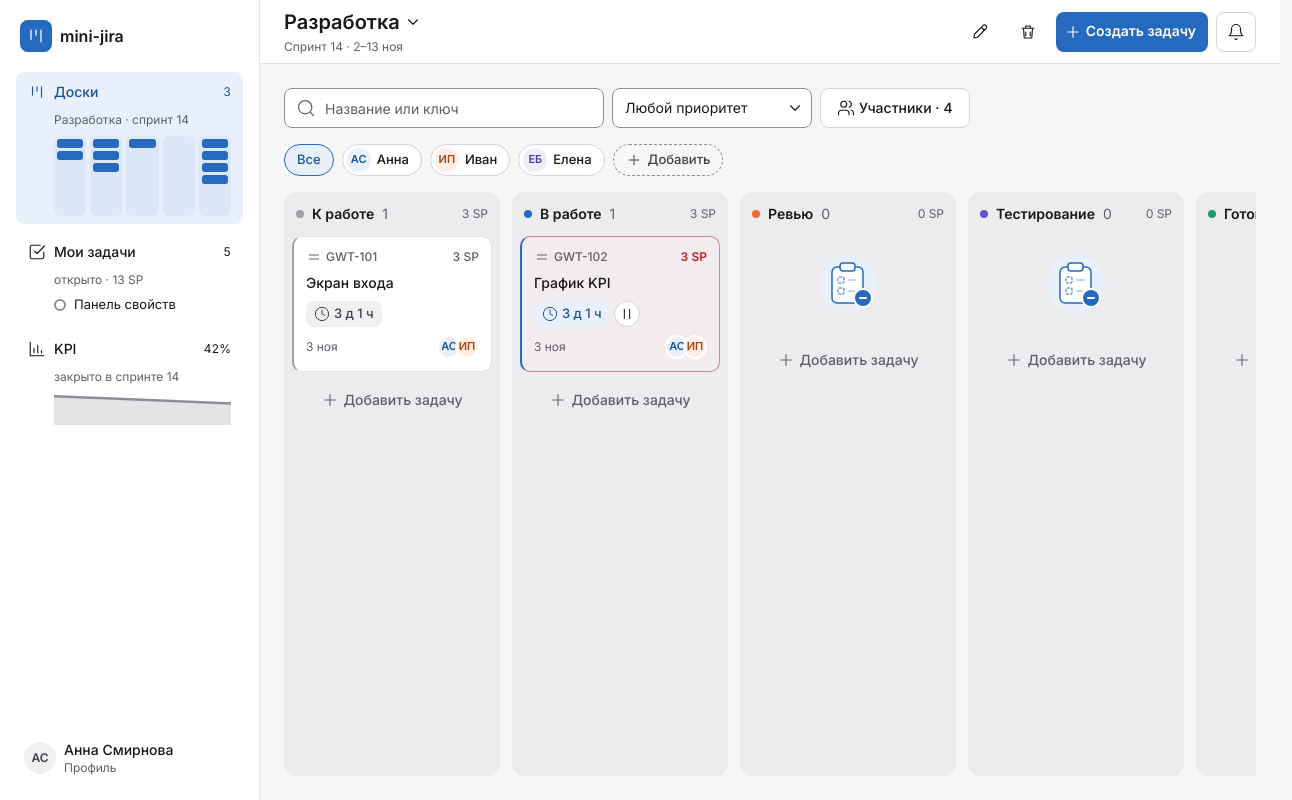
Test: cross-module scope доски › фильтры переживают переход к участникам и обратно
Step 1. Type "вход" into the search field named "Поиск по названию или ключу" → {"x": 444, "y": 108}, box [284,88,604,128]
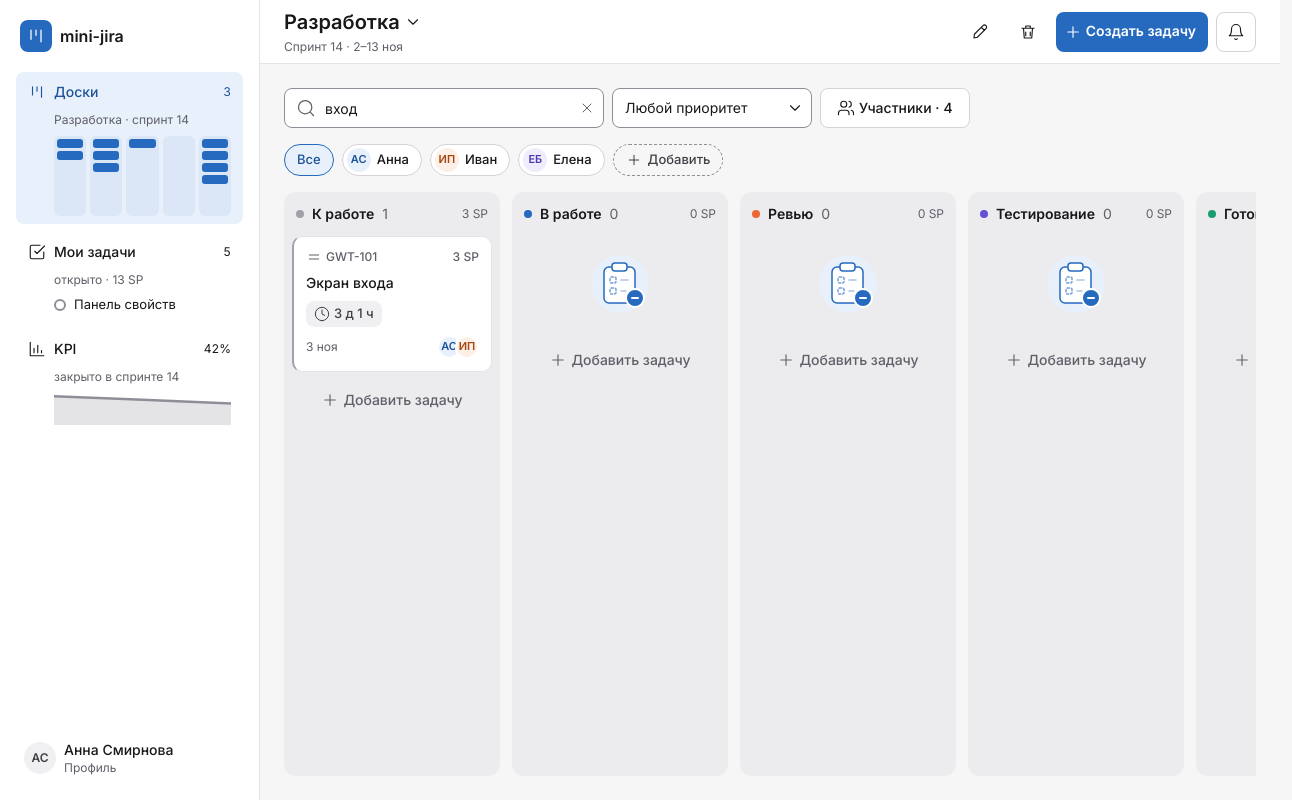
Expected: the link "Экран входа" is shown, [306,274,394,291]
Expected: the link "График KPI" is gone
Step 2. Click the link "Участники · 4" → {"x": 895, "y": 108}, box [820,88,970,128]
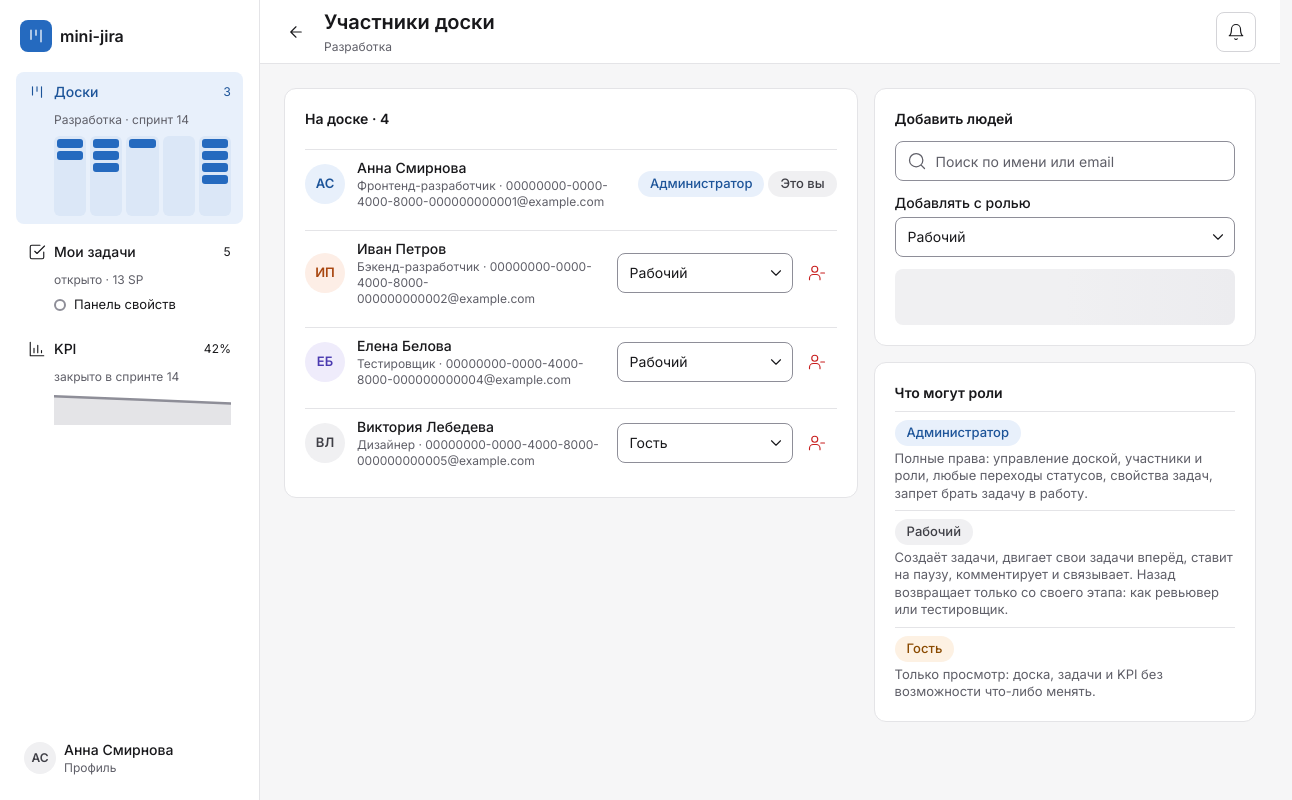
Expected: the heading "Участники доски" is shown, [324,10,495,34]
Step 3. Click the button named "Назад" → {"x": 296, "y": 32}, box [276,12,316,52]
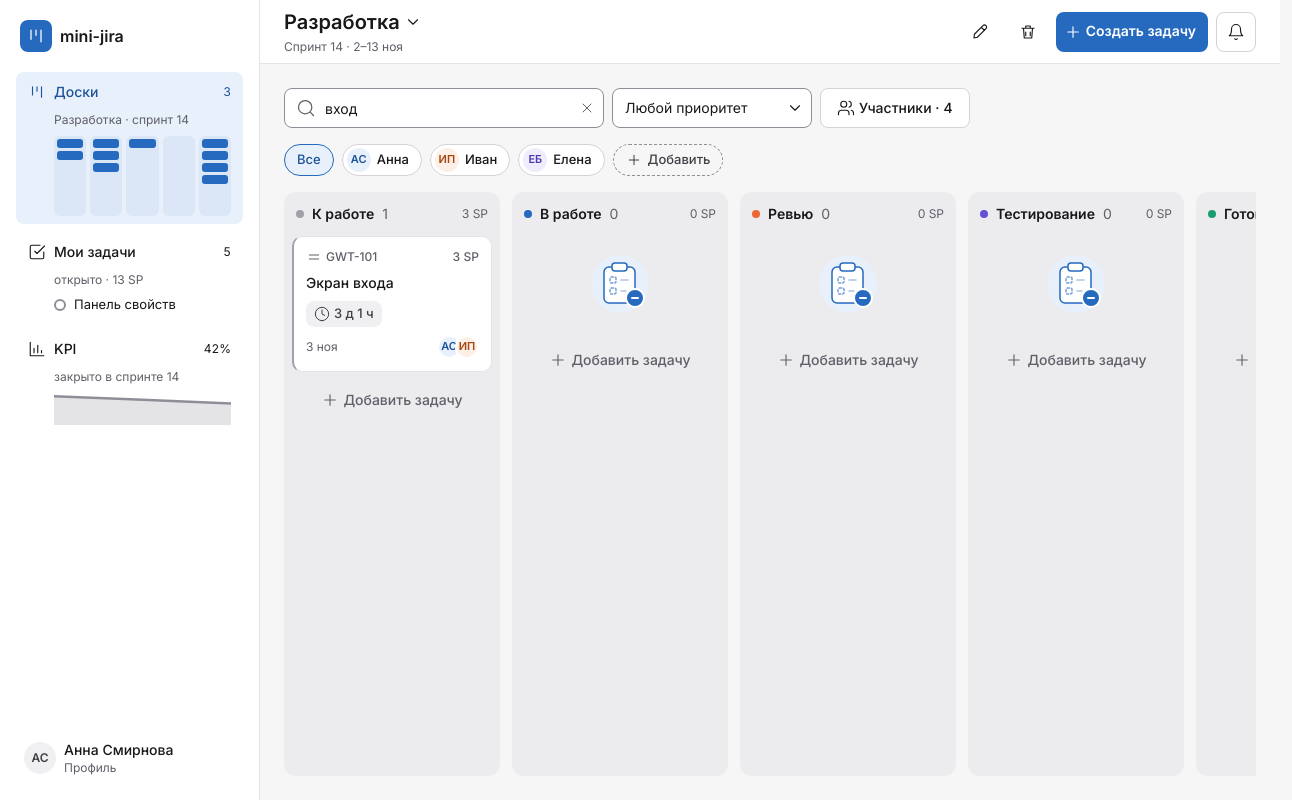
Expected: the link "График KPI" is not shown
Expected: the search field named "Поиск по названию или ключу" holds "вход", [284,88,604,128]
